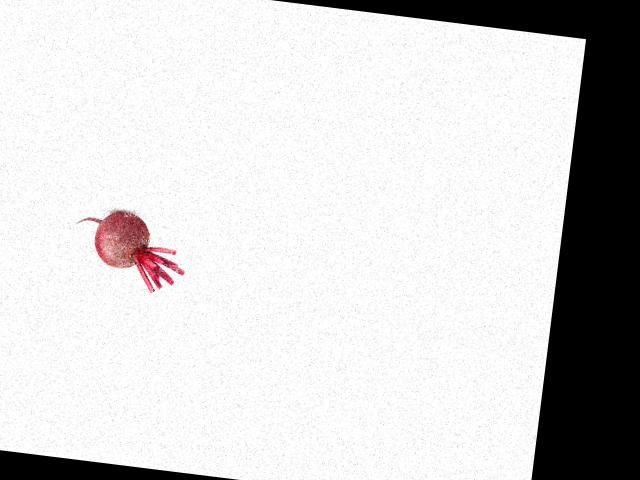beet: (69, 206, 191, 295)
